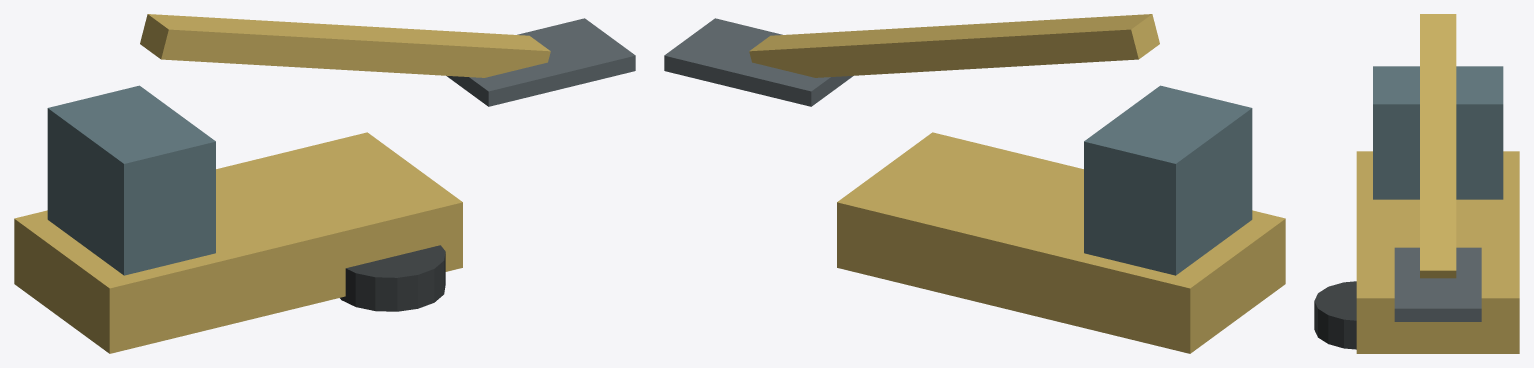
Rendered from reach-stacker-lod1.glb.
3 renders of one model, left to right at view 1: azimuth 30°, elevation 25°; view 2: azimuth 150°, elevation 25°; view 3: azimuth 270°, elevation 25°, orthographic. The views are drawn at different scales.
Visible parts, largest first — view 1: body, cab, boom, spreader, wheel; view 2: body, cab, boom, spreader; view 3: body, cab, boom, spreader, wheel.
Part boxes in pixels (bbox=[...]): body: bbox=[14, 132, 462, 353]; cab: bbox=[47, 85, 215, 275]; boom: bbox=[140, 14, 550, 77]; spreader: bbox=[446, 18, 635, 106]; wheel: bbox=[340, 245, 445, 311]; body: bbox=[837, 132, 1285, 353]; cab: bbox=[1084, 85, 1252, 275]; boom: bbox=[749, 14, 1159, 77]; spreader: bbox=[664, 18, 853, 106]; body: bbox=[1356, 151, 1519, 353]; cab: bbox=[1373, 66, 1503, 199]; boom: bbox=[1420, 14, 1456, 278]; spreader: bbox=[1394, 247, 1481, 321]; wheel: bbox=[1314, 281, 1356, 349].
Bounding box in the file's own units: 7.45 × 3.63 × 2.84.
